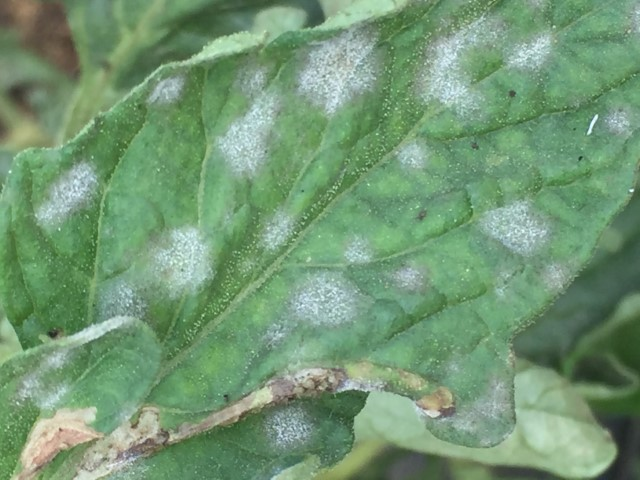oidio: (414, 16, 507, 113), (298, 29, 383, 118), (216, 91, 280, 181), (152, 225, 214, 301), (34, 159, 97, 229), (480, 197, 550, 259), (291, 272, 358, 326), (448, 390, 509, 440), (21, 348, 69, 410), (99, 279, 147, 329), (268, 407, 316, 448), (509, 31, 553, 74), (259, 208, 294, 253), (148, 74, 184, 108), (383, 265, 424, 291), (232, 61, 266, 90), (343, 232, 372, 264), (340, 375, 386, 394), (605, 106, 632, 136), (398, 140, 428, 167), (545, 262, 568, 291), (264, 321, 286, 346), (120, 452, 143, 475), (494, 270, 511, 294), (237, 258, 256, 275), (634, 6, 640, 37)
